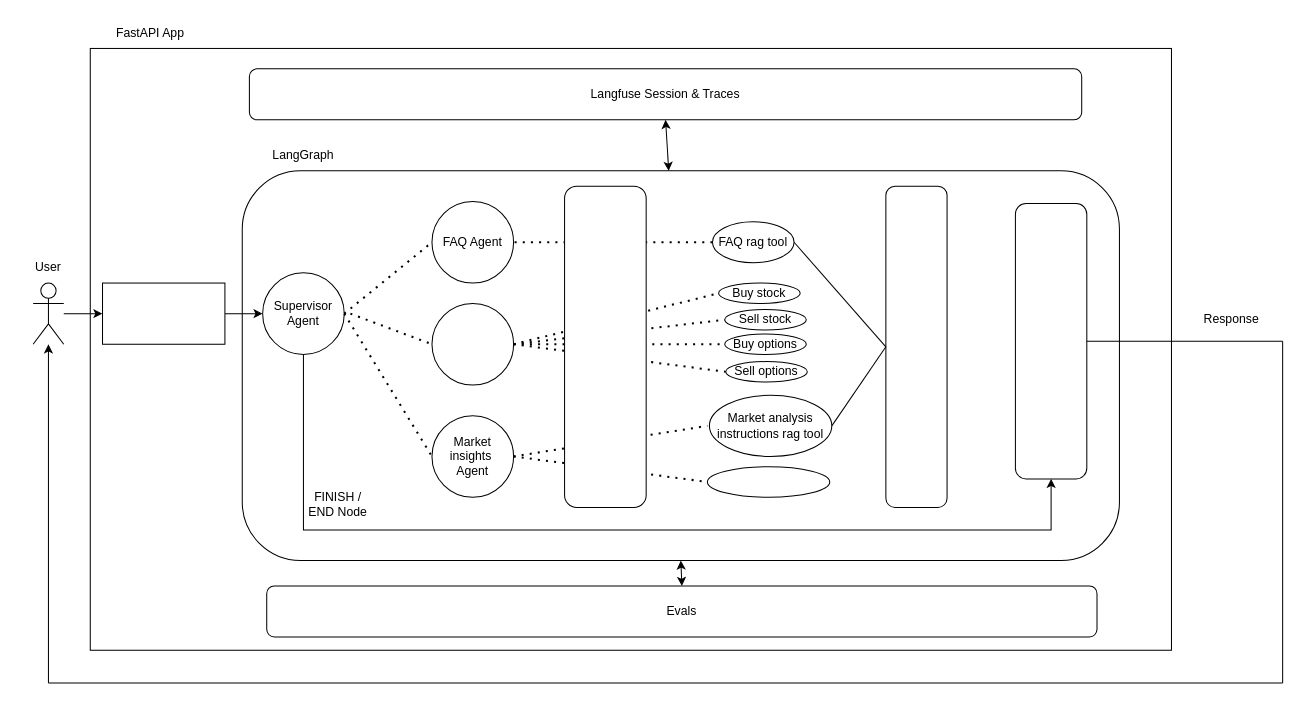
Some shapes in this 1302 by 709 pixel diagram are drawn without their labels. Here are the shapes that lost their labels. From the top down, the centre of each, then its label:
At [163,313]: "Input Guadrails".
At [472,343]: "Task Agent".
At [605,346]: "Tools Guardrails".
At [916,346]: "FAISS vectorDB".
At [1050,340]: "Output Guadrails".
At [768,481]: "Internet search tool".
